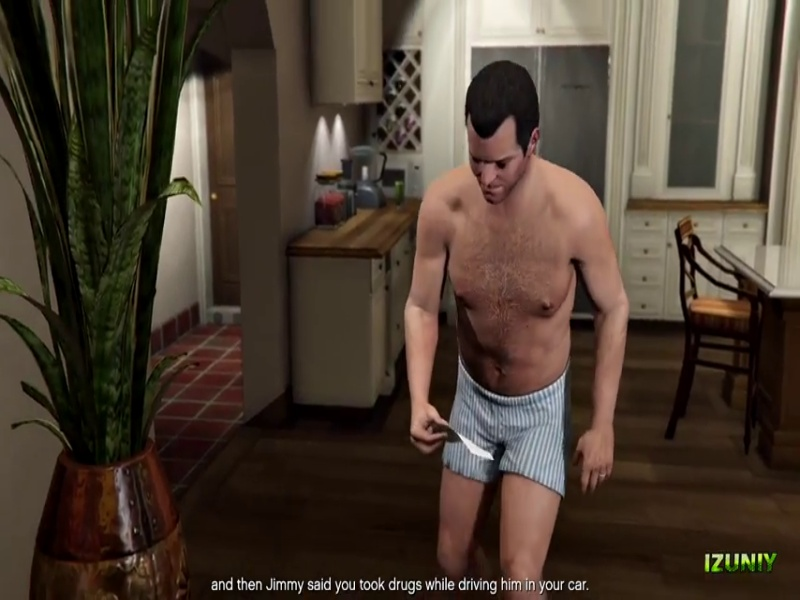human: (408, 65, 629, 586)
